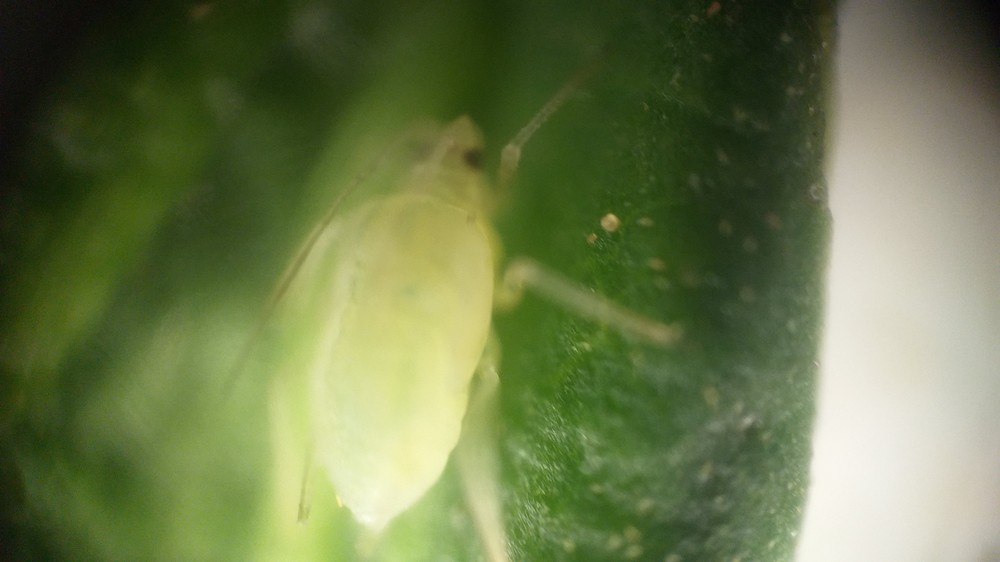Pulgon: (198, 93, 709, 560)
